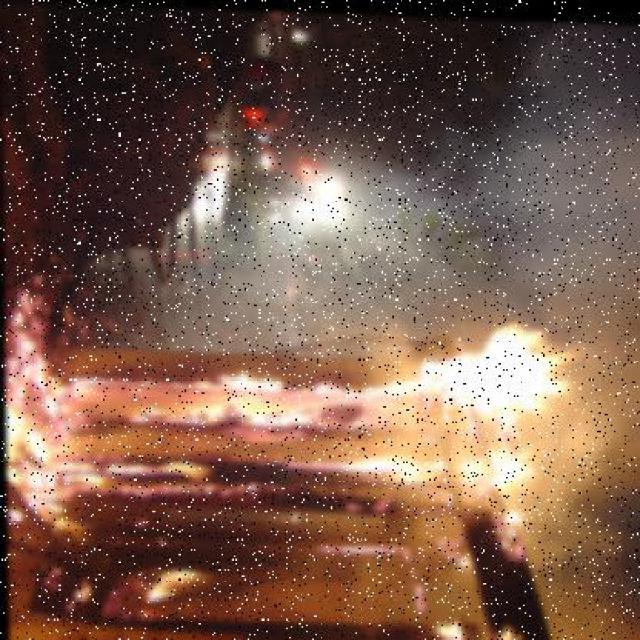fire: (7, 299, 593, 505)
